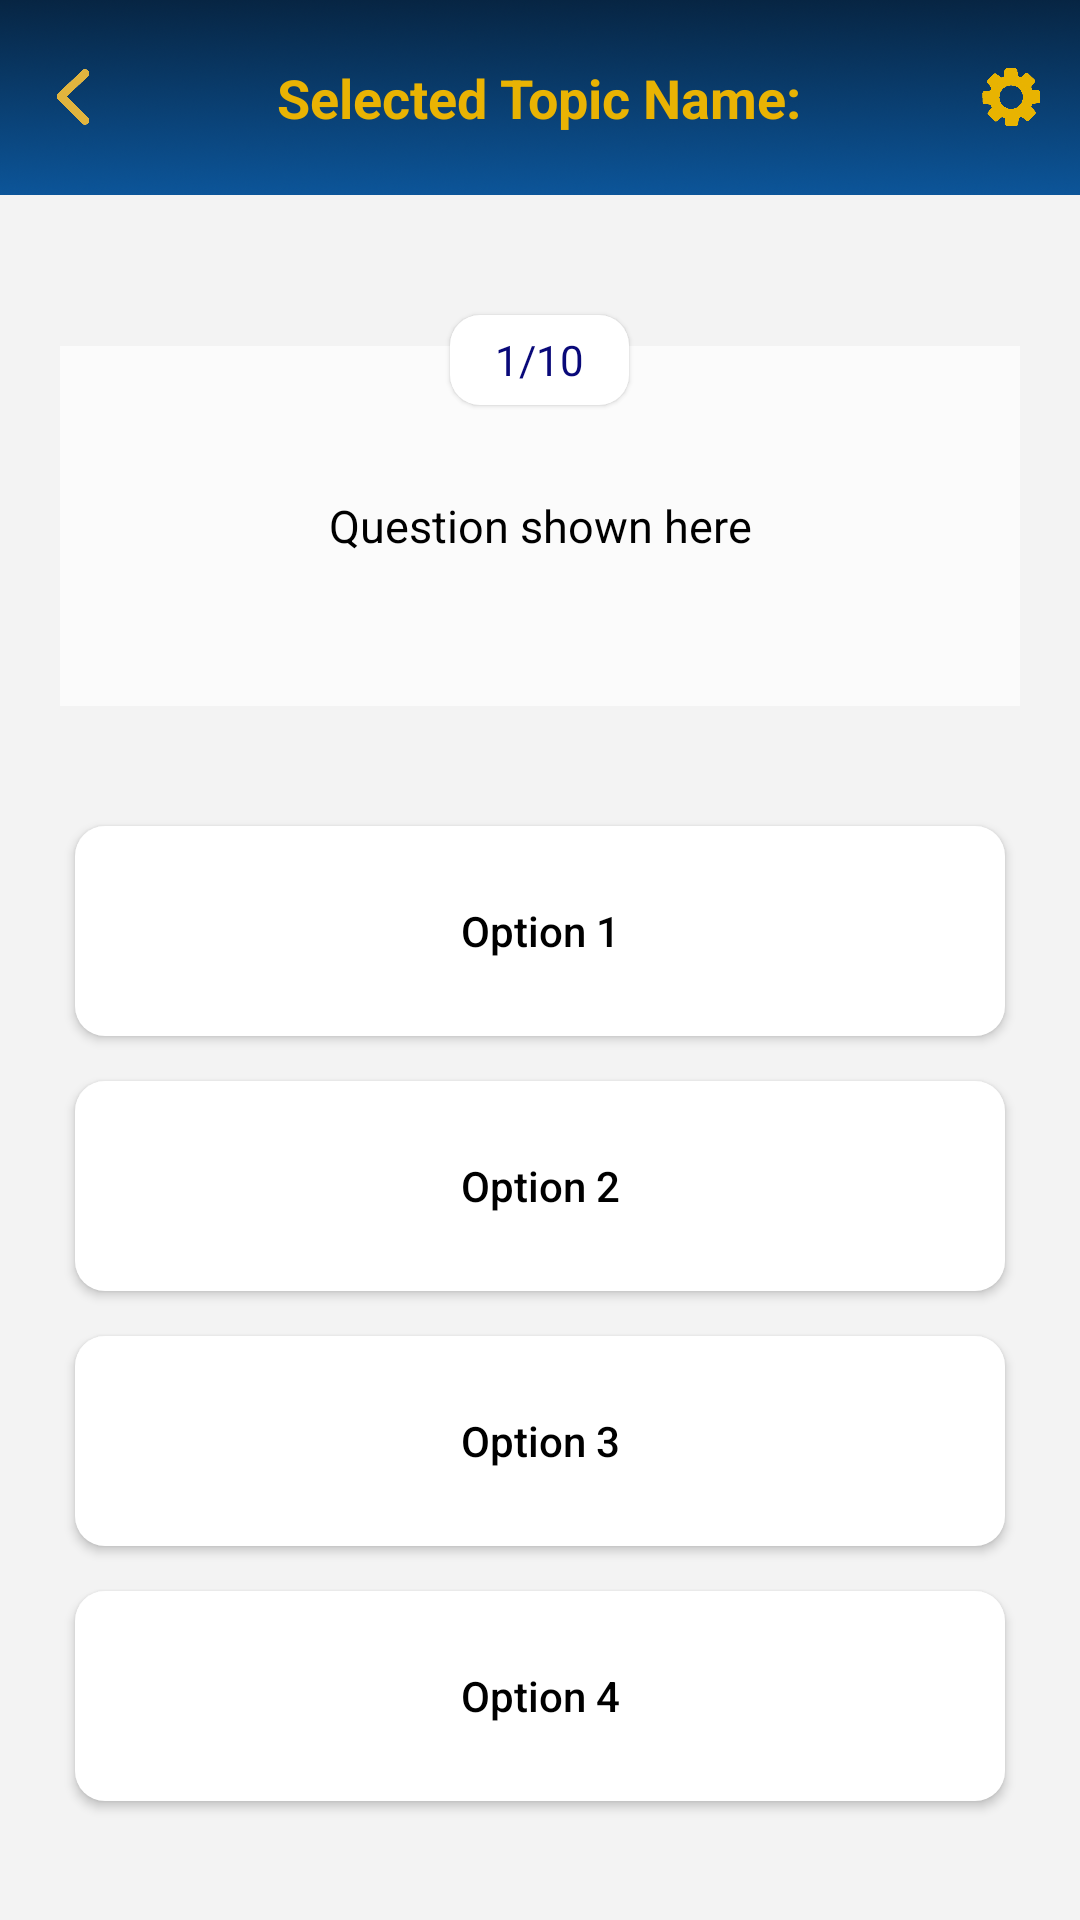

Screen size 1080w x 1920h. Icon name, then its box in pixels as (x1, y1, x2, y2):
back: (45, 67, 105, 125)
settings: (975, 67, 1050, 126)
